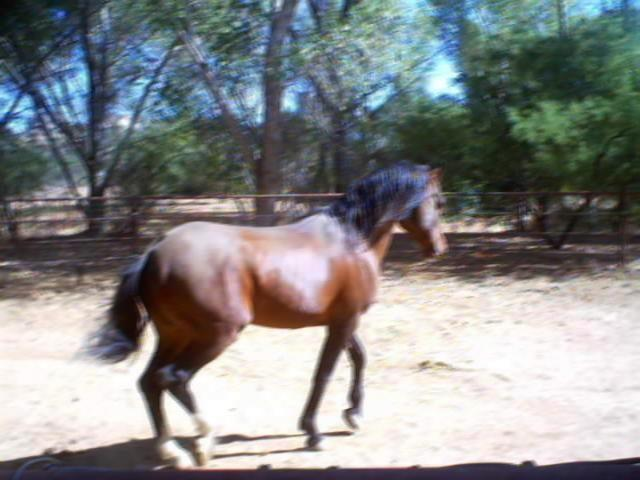horse: (81, 158, 448, 469)
